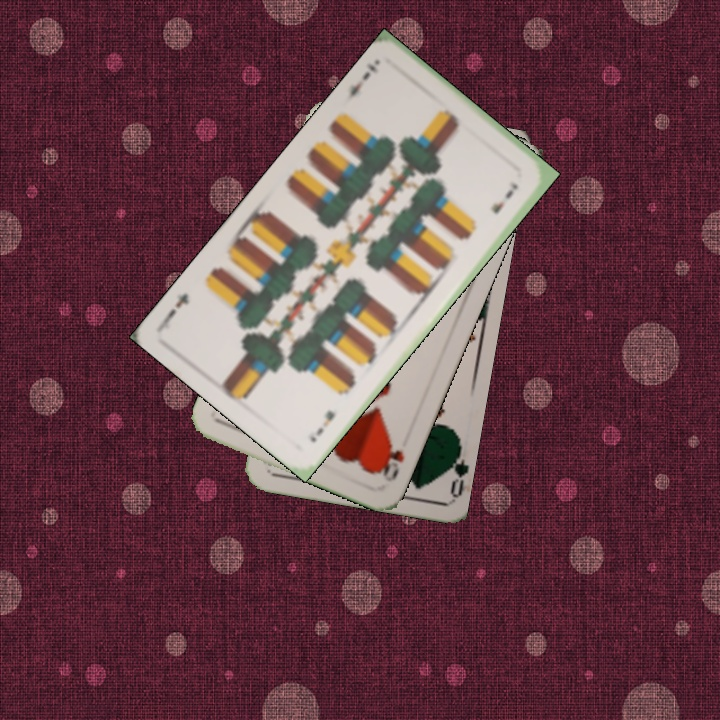E7: (342, 59, 380, 106), (303, 406, 338, 445)
GO: (438, 439, 468, 499)
HO: (375, 439, 407, 484)
